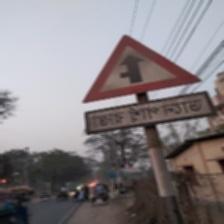Side-road-right: (81, 34, 212, 138)
